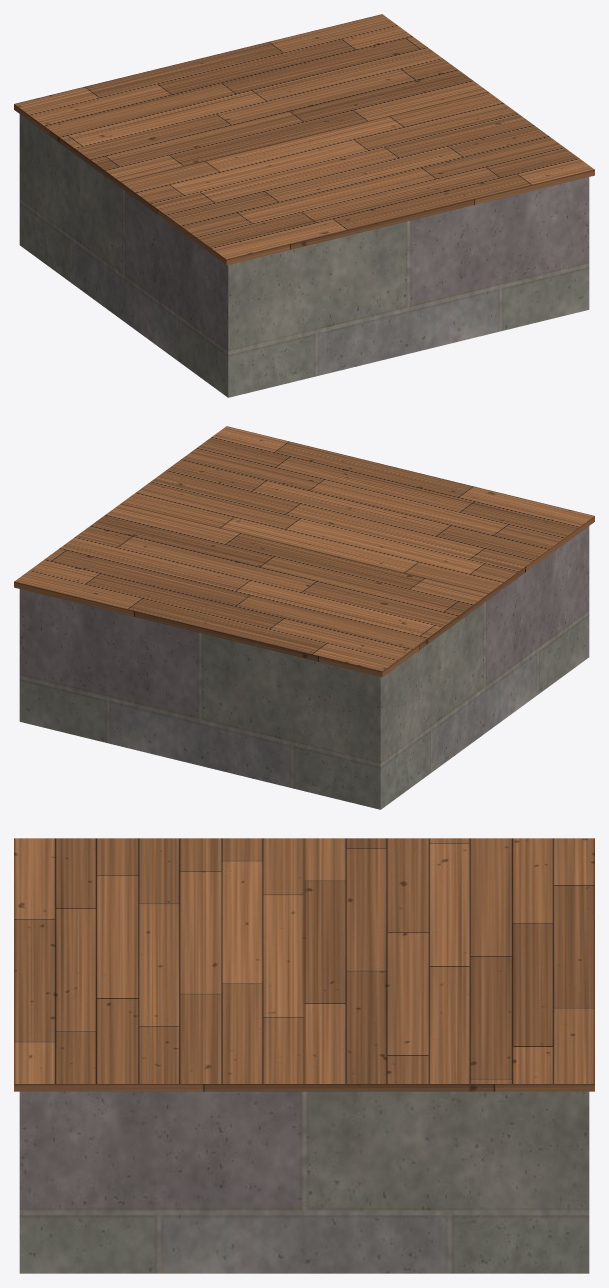
Rendered from floor_tile_ground.glb.
3 views of the same model, one above another, from view 1: azimuth 30°, elevation 25°; view 2: azimuth 150°, elevation 25°; view 3: azimuth 270°, elevation 25° (orthographic). The views are drawn at different scales.
Parts seen in each view (by area): view 1: floor_tile_ground_floor, floor_tile_ground_plinth; view 2: floor_tile_ground_floor, floor_tile_ground_plinth; view 3: floor_tile_ground_floor, floor_tile_ground_plinth.
Part boxes in pixels (x1,y1,x2,y2): floor_tile_ground_floor: (14, 14, 594, 265); floor_tile_ground_plinth: (19, 114, 589, 397); floor_tile_ground_floor: (14, 426, 594, 677); floor_tile_ground_plinth: (19, 526, 589, 809); floor_tile_ground_floor: (14, 838, 594, 1091); floor_tile_ground_plinth: (19, 1091, 589, 1273).
Bounding box in the file's own units: 2 × 0.73 × 2.
Materials: 2 (2 with a texture image).
